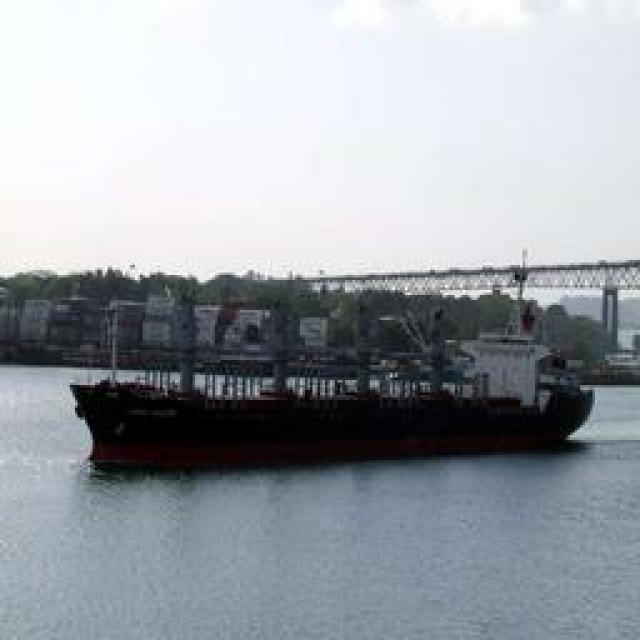Ship: (72, 340, 582, 463)
